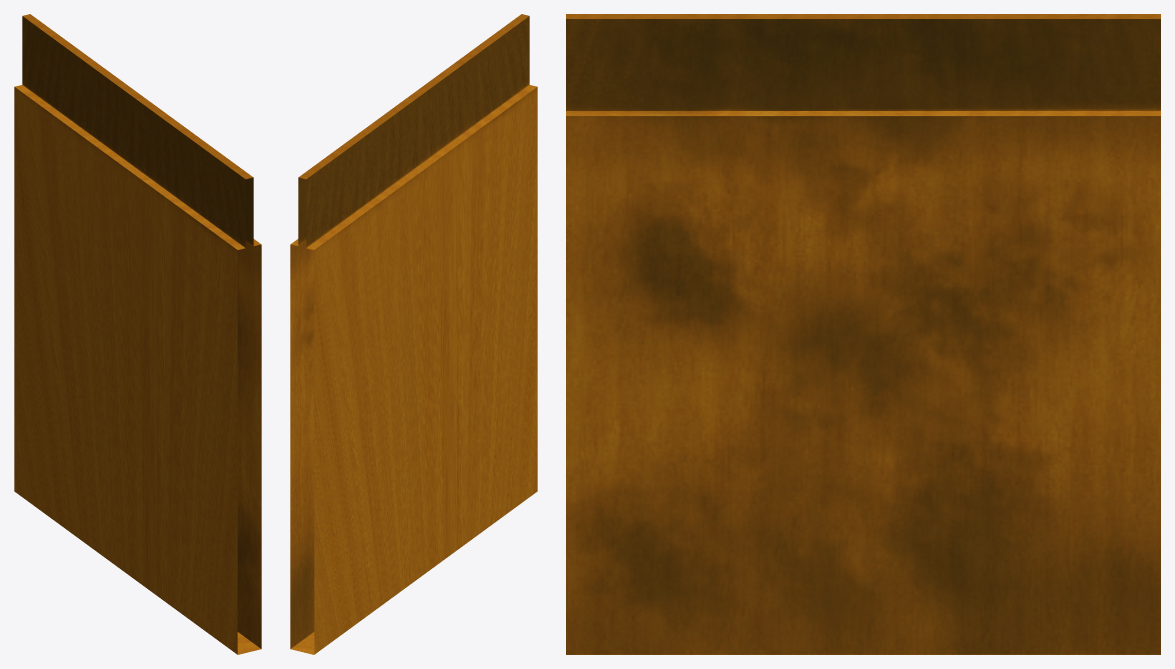
File: Fence.fbx
3 renders of one model, left to right at view 1: azimuth 30°, elevation 25°; view 2: azimuth 150°, elevation 25°; view 3: azimuth 270°, elevation 25°, orthographic. The views are drawn at different scales.
Visible parts, largest first — view 1: Cube; view 2: Cube; view 3: Cube.
Part boxes in pixels (x1=…): Cube: x1=14, y1=14, x2=261, y2=654; Cube: x1=290, y1=14, x2=537, y2=654; Cube: x1=566, y1=14, x2=1160, y2=654.
Bounding box in the file's own units: 12.25 × 234 × 200.
